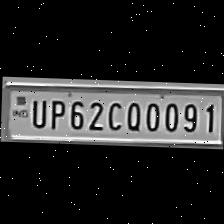0: (140, 96, 160, 130), (160, 97, 180, 131)
1: (199, 100, 217, 134)
2: (84, 96, 104, 130)
6: (64, 96, 84, 130)
9: (178, 97, 198, 132)
C: (104, 96, 122, 130)
P: (44, 94, 64, 130)
Q: (122, 96, 142, 130)
U: (26, 94, 46, 128)
